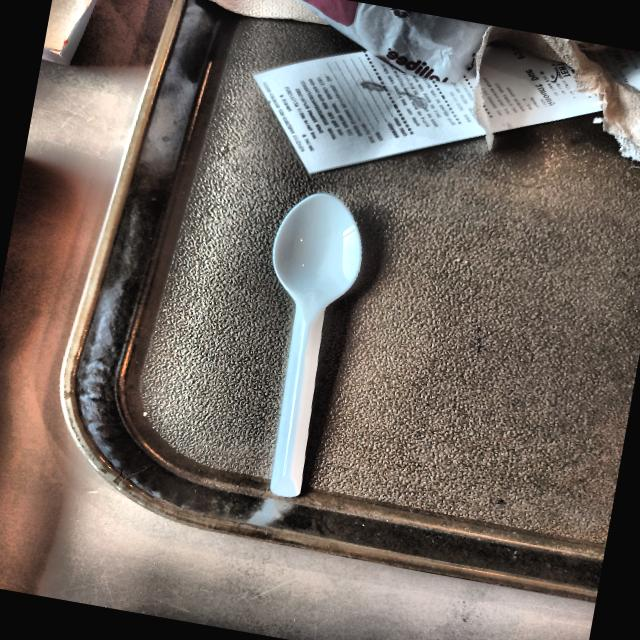plastic utensil: (270, 192, 361, 496)
